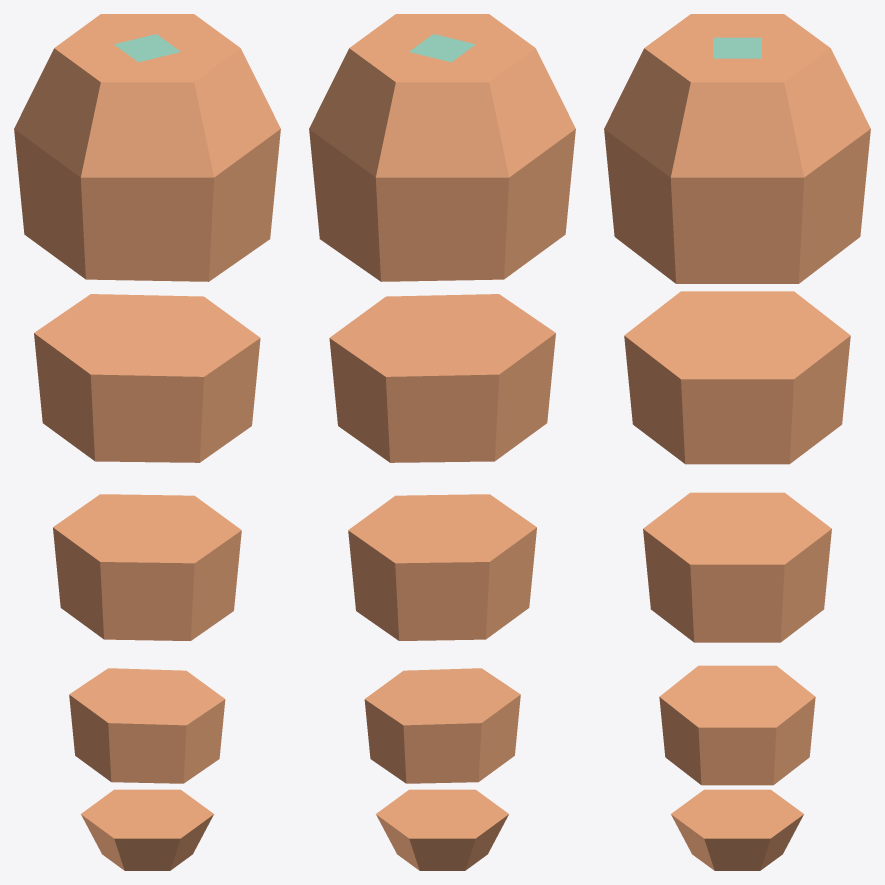
File: carrotChopped.dae
The picture shows the model from 3 angles, left to right: view 1: azimuth 30°, elevation 25°; view 2: azimuth 150°, elevation 25°; view 3: azimuth 270°, elevation 25°; orthographic projection.
Parts seen in each view (by area): view 1: carrot; view 2: carrot; view 3: carrot.
Boxes of the visible parts, x1,y1,x2,y2 form: carrot: (14, 14, 280, 870); carrot: (309, 14, 575, 870); carrot: (604, 14, 870, 870).
Bounding box in the file's own units: 0.1039 × 0.12 × 0.4.
